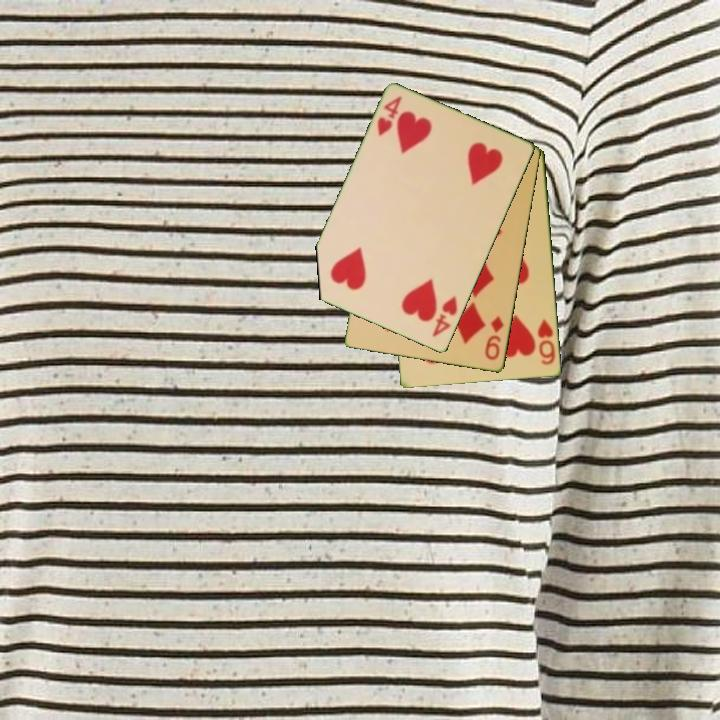4h: (429, 293, 460, 340), (374, 93, 405, 139)
6h: (534, 316, 558, 368)
9d: (482, 313, 507, 363)
